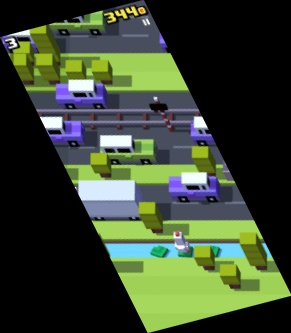car: (48, 5, 107, 37), (98, 135, 158, 166), (32, 115, 86, 149), (1, 22, 53, 53), (54, 79, 107, 109), (167, 175, 218, 204), (189, 116, 233, 147), (158, 25, 203, 53)
duck: (172, 232, 191, 254)
light off: (148, 96, 177, 133)
lilypad: (176, 243, 195, 258), (150, 245, 170, 258), (204, 244, 221, 257)
rail: (32, 106, 209, 131)
rock: (219, 158, 237, 179)
tree: (29, 20, 63, 66), (239, 233, 267, 269), (8, 53, 37, 86), (138, 202, 164, 234), (35, 54, 61, 85), (191, 145, 216, 176), (10, 40, 37, 65), (89, 60, 115, 85), (193, 245, 216, 271), (219, 264, 242, 289), (89, 153, 111, 178), (65, 60, 87, 84)
truck: (66, 180, 144, 221)
